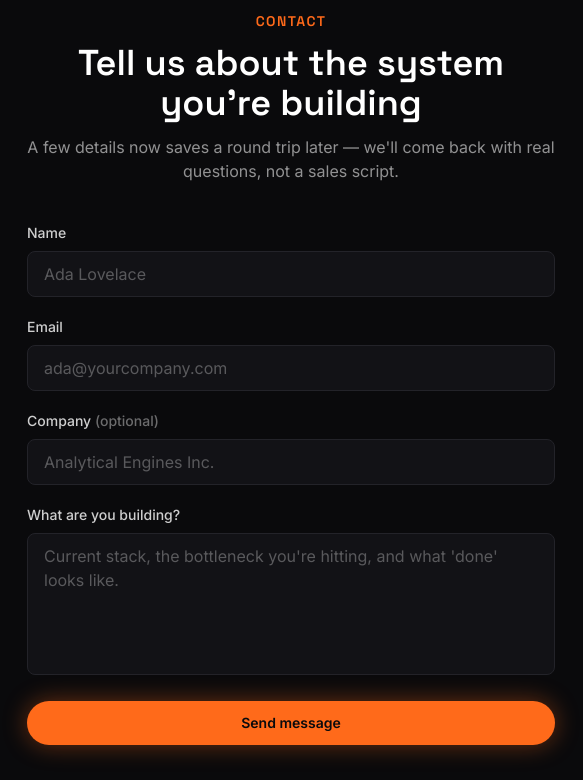
Test: Contact › shows validation errors instead of submitting when required fields are empty
This screenshot has width=583, height=780.
Click the button "Send message" at (291, 723), box 27,701 -> 555,745
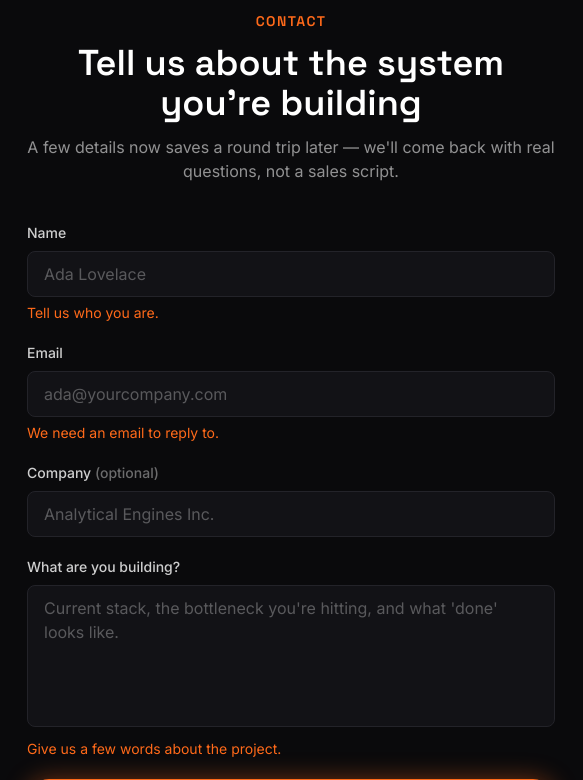
Check: the text "Tell us who you are." is shown, box 27,304 -> 159,321
Check: the text "We need an email to reply to." is shown, box 27,424 -> 219,441
Check: the text "Give us a few words about the project." is shown, box 27,740 -> 281,757
